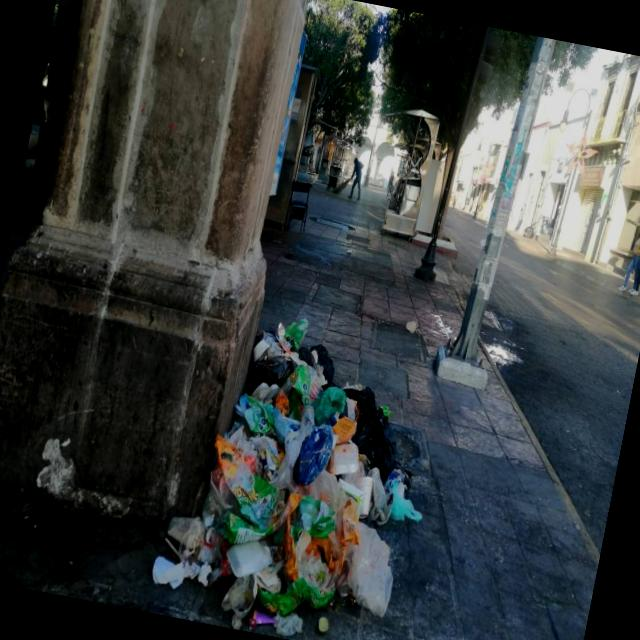garbage: (145, 288, 461, 640)
